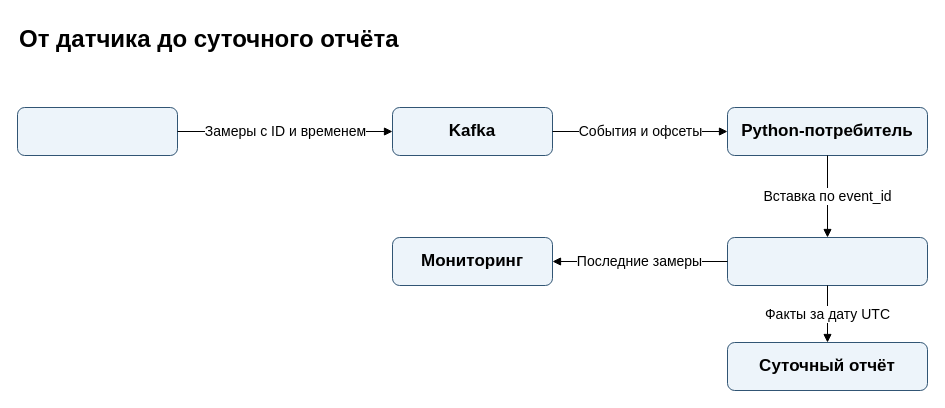
The diagram is 945 pixels wide and 408 high, and some of its shapes have lost their labels. The shapes that lost their labels are listed below. From the top down, each one's box as (x1, y1, x2, y2) in pixels, then its label:
(16, 106, 178, 156): Датчики
(726, 236, 928, 286): PostgreSQL
